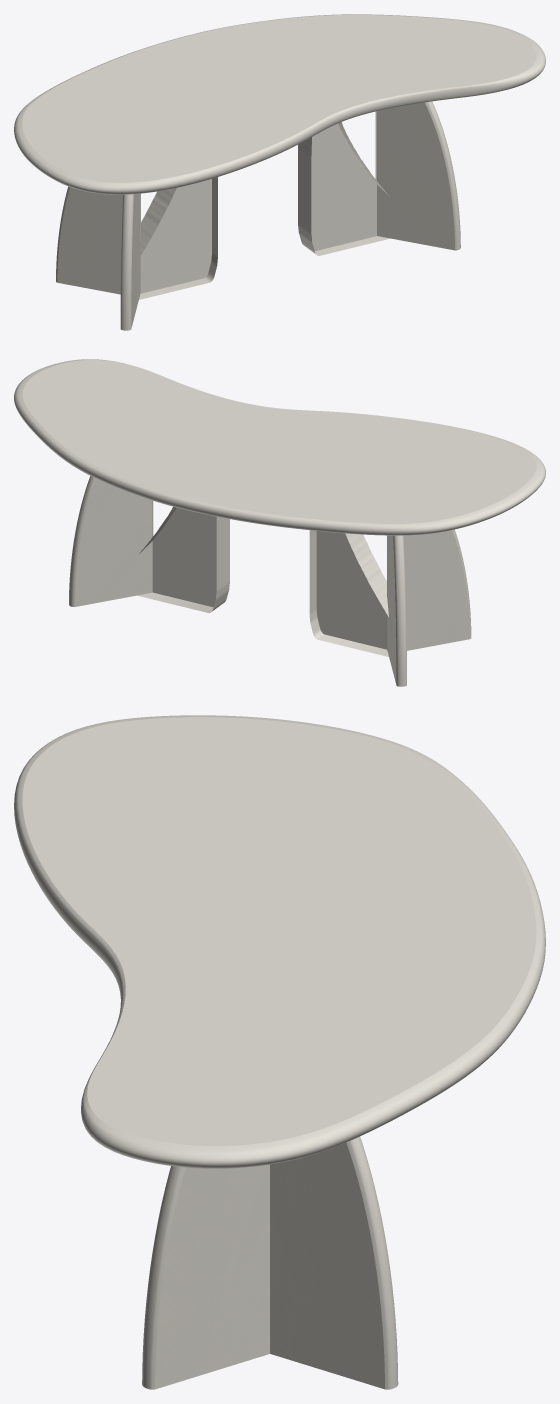
The model's file is pale_leaf1_round_plane.glb.
3 views of the same model, one above another, from view 1: azimuth 30°, elevation 25°; view 2: azimuth 150°, elevation 25°; view 3: azimuth 270°, elevation 25° (orthographic). The views are drawn at different scales.
Visible parts, largest first — view 1: round_leaf1, plane_singleright2, plane_single2, plane_single1, plane_singleleft1, plane_singleright1; view 2: round_leaf1, plane_singleleft2, plane_single1, plane_single2, plane_singleright1, plane_singleleft1; view 3: round_leaf1, plane_singleleft2, plane_singleright2.
Boxes of the visible parts, left/top/right/bottom form: round_leaf1: left=14, top=14, right=545, bottom=194; plane_singleright2: left=375, top=101, right=460, bottom=250; plane_single2: left=298, top=122, right=389, bottom=255; plane_single1: left=139, top=177, right=217, bottom=299; plane_singleleft1: left=56, top=186, right=140, bottom=294; plane_singleright1: left=120, top=193, right=140, bottom=330; round_leaf1: left=14, top=359, right=545, bottom=535; plane_singleleft2: left=69, top=476, right=153, bottom=606; plane_single1: left=309, top=530, right=388, bottom=656; plane_single2: left=137, top=506, right=229, bottom=612; plane_singleright1: left=387, top=529, right=471, bottom=650; plane_singleleft1: left=387, top=535, right=406, bottom=686; round_leaf1: left=14, top=715, right=545, bottom=1168; plane_singleleft2: left=270, top=1136, right=398, bottom=1389; plane_singleright2: left=142, top=1164, right=269, bottom=1389.
Size of the model in its own units: 7.5 by 2.5 by 3.8.
1 material, 1 textured.
